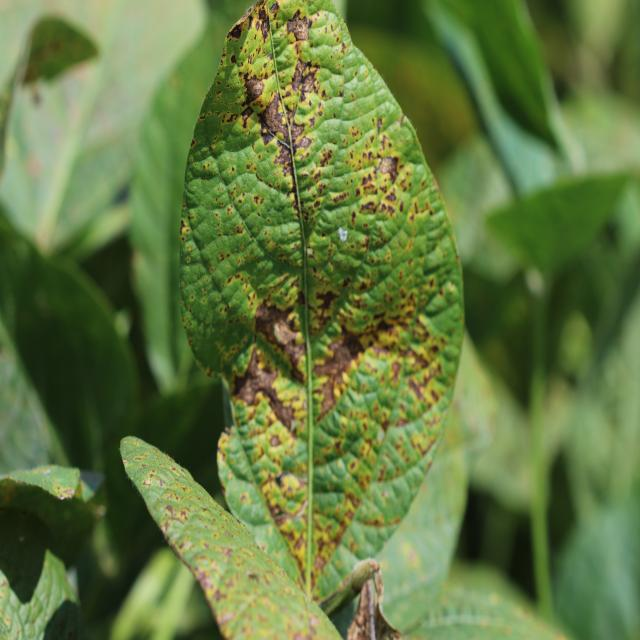Bacterial_Blight: (239, 65, 300, 168), (233, 345, 297, 423), (311, 333, 365, 420), (403, 362, 440, 411), (363, 153, 404, 195), (270, 493, 307, 526), (192, 563, 222, 603), (311, 288, 342, 326), (285, 8, 311, 41), (272, 318, 300, 347), (338, 332, 365, 361), (52, 480, 79, 500), (162, 504, 188, 523), (241, 104, 257, 130), (228, 22, 244, 41), (260, 18, 271, 40), (275, 473, 285, 487)
Soybean: (133, 0, 464, 638)
